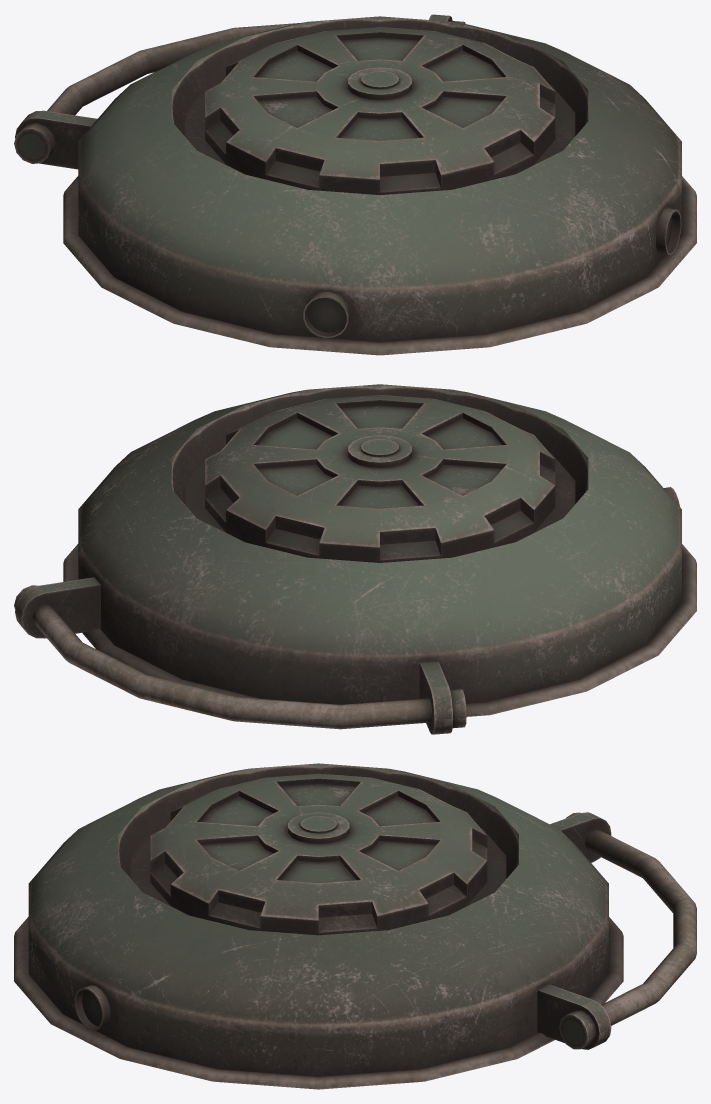
Rendered from Landmine.fbx.
The picture shows the model from 3 angles, top to bottom: view 1: azimuth 30°, elevation 25°; view 2: azimuth 150°, elevation 25°; view 3: azimuth 270°, elevation 25°; orthographic projection. The views are drawn at different scales.
Parts seen in each view (by area): view 1: PVP_tellermine_0001_XS0; view 2: PVP_tellermine_0001_XS0; view 3: PVP_tellermine_0001_XS0.
Part boxes in pixels (x1,y1,x2,y2): PVP_tellermine_0001_XS0: [14, 14, 696, 355]; PVP_tellermine_0001_XS0: [14, 384, 696, 734]; PVP_tellermine_0001_XS0: [14, 763, 696, 1089].
Size of the model in its own units: 36.75 by 40.55 by 8.84.
